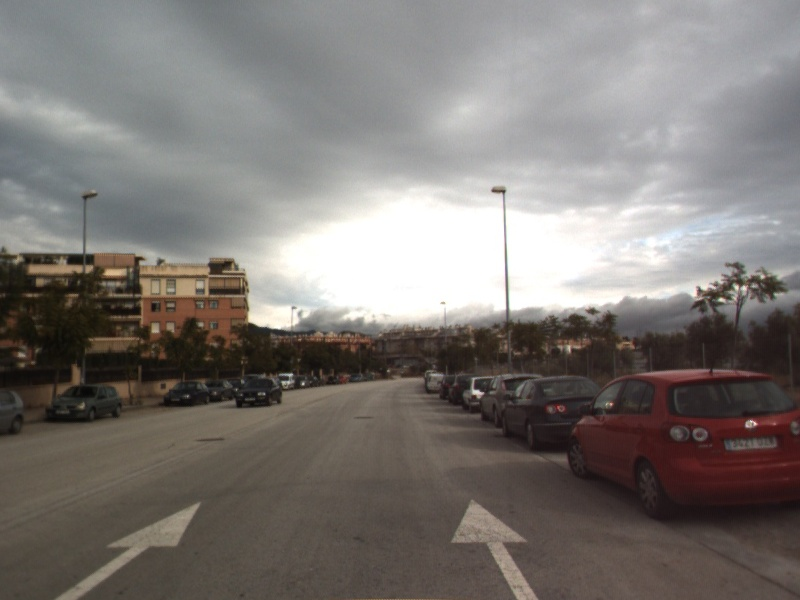STRAIGHT: (51, 499, 204, 600), (448, 497, 541, 600)
